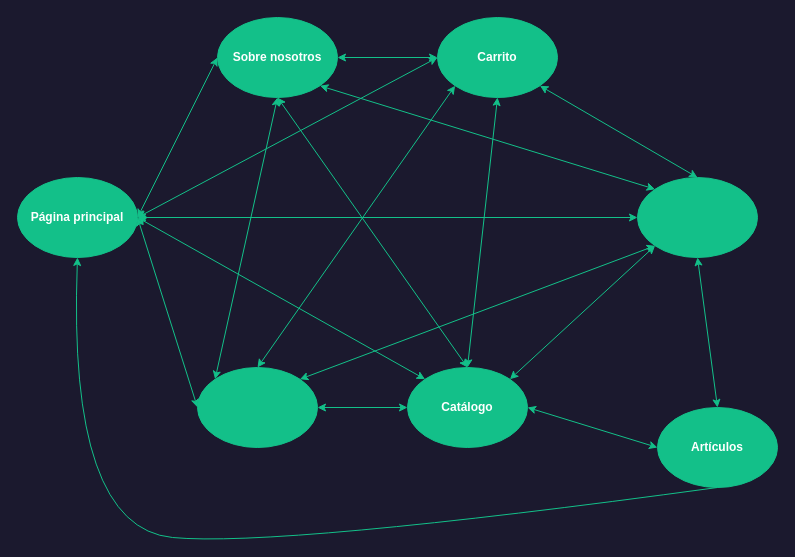
This 795x557 diagram has some shape labels left out. The centre of each missing label's shape, as x and y in pixels:
"Búsqueda" goes at (697,217).
"Soporte al cliente" goes at (257,407).
